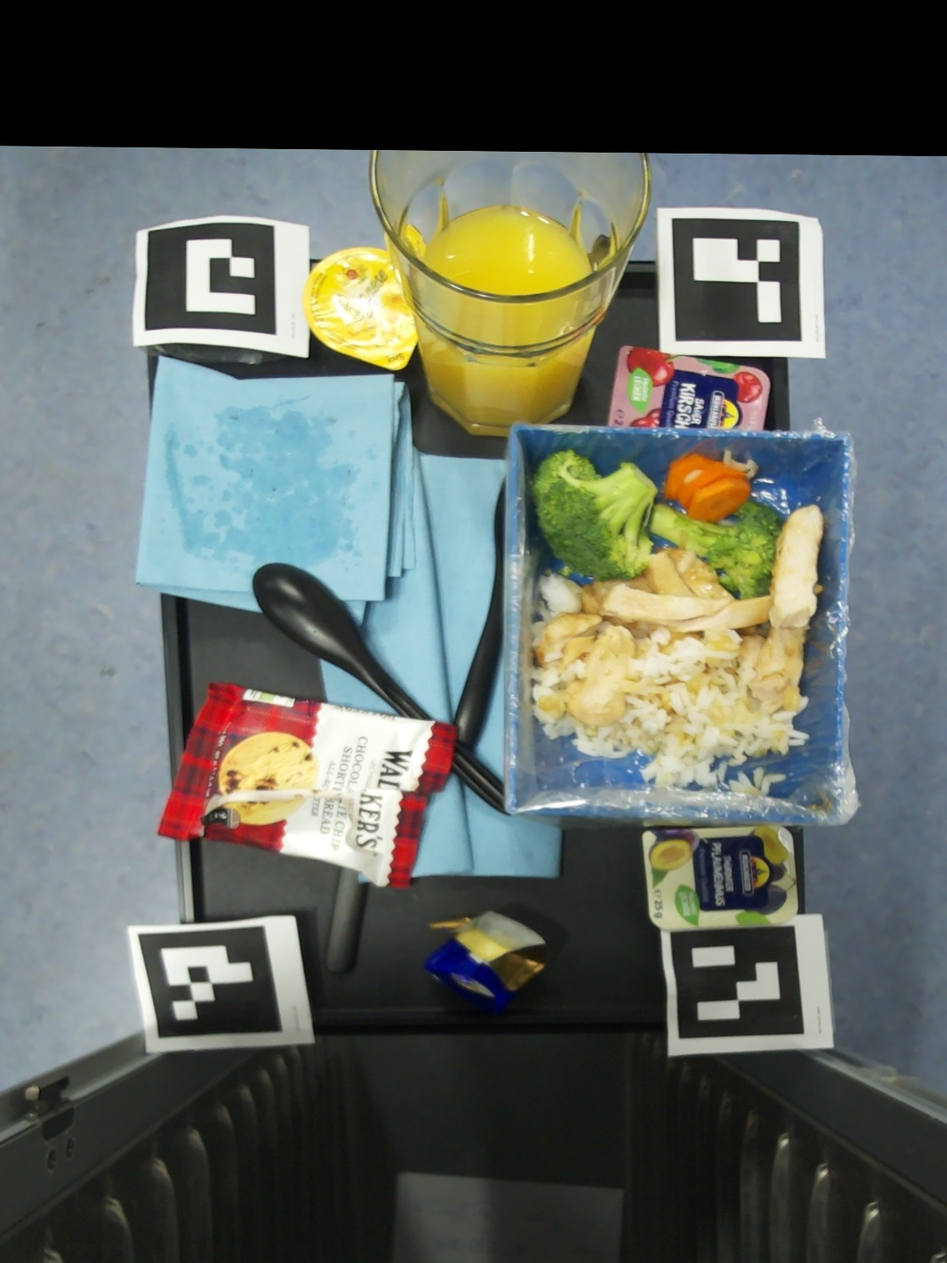broccoli: (530, 449, 781, 599)
butter: (421, 910, 547, 1013)
carrots: (665, 456, 751, 523)
cherry_jam: (607, 346, 770, 430)
chicken: (603, 504, 825, 712), (534, 613, 603, 670), (566, 681, 624, 723), (557, 636, 595, 674), (595, 634, 638, 659)
cookie: (156, 681, 456, 887)
honey: (302, 247, 416, 372)
orange_juice_bottle: (370, 150, 650, 437)
plum_jam: (643, 827, 798, 929)
rice: (531, 568, 811, 788), (728, 767, 787, 796), (723, 450, 759, 479), (677, 551, 696, 572), (683, 469, 702, 484), (718, 519, 736, 525)
